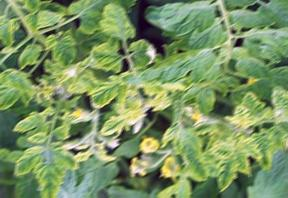Tomato leaf yellow virus: (163, 119, 211, 181), (97, 3, 140, 48), (87, 76, 123, 116), (87, 41, 126, 76), (45, 31, 80, 69), (4, 69, 41, 98), (37, 159, 66, 196), (13, 146, 47, 175), (16, 111, 54, 135), (18, 36, 43, 72), (242, 92, 267, 127), (97, 116, 133, 140), (252, 135, 275, 171), (214, 163, 239, 191), (204, 142, 243, 158), (56, 150, 84, 172)
